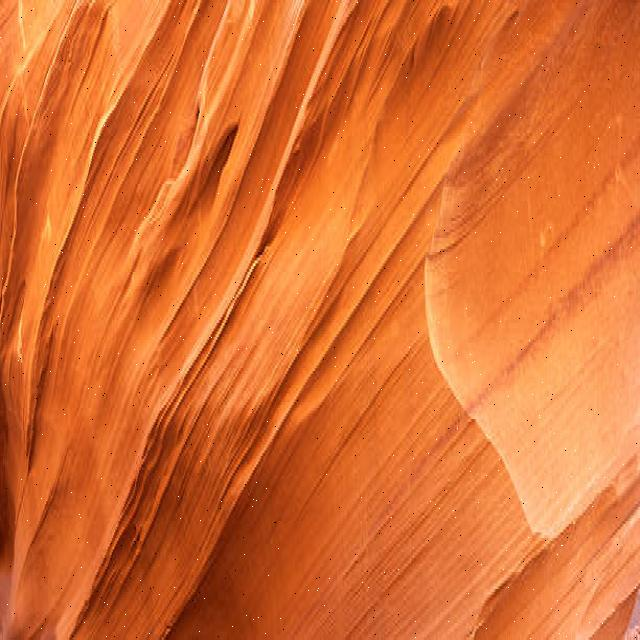Sedimentary: (1, 6, 640, 637)
